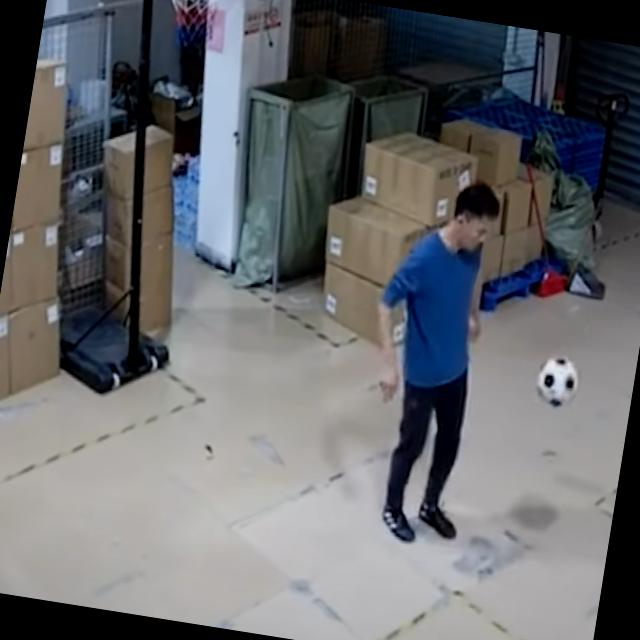person: (342, 167, 516, 550)
